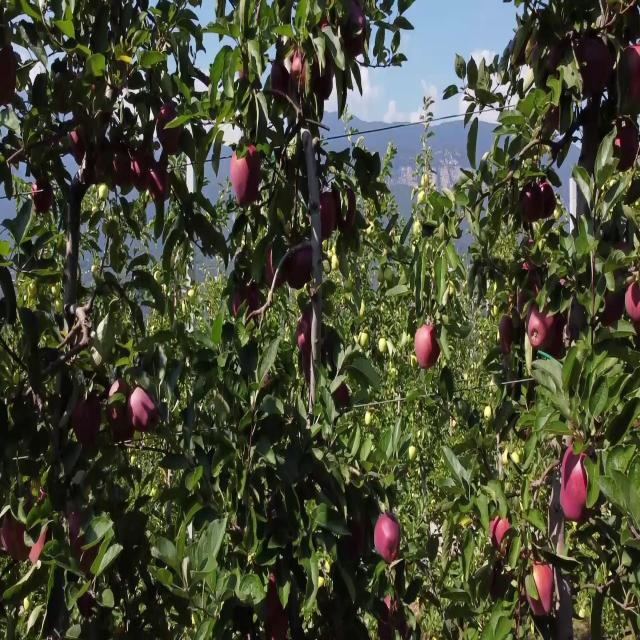apple: (580, 35, 615, 98), (232, 149, 263, 208), (72, 391, 103, 448), (564, 447, 588, 519), (108, 383, 135, 446), (68, 511, 91, 574), (528, 568, 555, 619), (156, 106, 183, 156), (4, 511, 29, 564), (616, 120, 640, 174), (584, 106, 607, 162), (344, 7, 368, 60), (240, 149, 263, 204), (132, 391, 159, 434), (64, 312, 91, 354), (548, 35, 574, 78), (376, 519, 400, 564), (0, 49, 18, 107), (312, 56, 335, 101), (416, 327, 440, 370), (620, 49, 640, 100), (264, 248, 287, 290), (148, 163, 171, 204), (288, 49, 308, 96), (236, 284, 262, 320), (320, 191, 337, 242), (604, 284, 624, 327), (292, 248, 312, 290), (380, 597, 400, 639), (544, 319, 564, 361), (32, 177, 54, 215), (28, 526, 48, 567), (132, 149, 150, 194), (520, 184, 540, 224), (68, 511, 84, 560), (112, 149, 131, 190), (68, 127, 87, 165), (272, 63, 289, 105), (340, 191, 356, 235), (268, 604, 288, 639), (92, 149, 111, 185), (492, 519, 512, 553), (528, 312, 545, 350), (68, 511, 83, 553), (628, 284, 640, 334), (544, 319, 559, 359), (248, 149, 263, 188), (540, 184, 556, 220), (384, 597, 400, 633), (624, 7, 640, 41), (232, 156, 247, 192), (600, 7, 618, 36), (544, 106, 561, 135), (352, 519, 366, 553), (248, 284, 261, 318), (80, 590, 95, 619), (232, 291, 246, 320), (544, 312, 555, 348), (336, 383, 350, 409), (500, 319, 515, 343), (296, 334, 312, 356), (300, 312, 313, 338), (528, 270, 540, 297), (528, 277, 540, 299), (520, 291, 530, 315), (524, 263, 535, 276), (320, 21, 330, 32)
